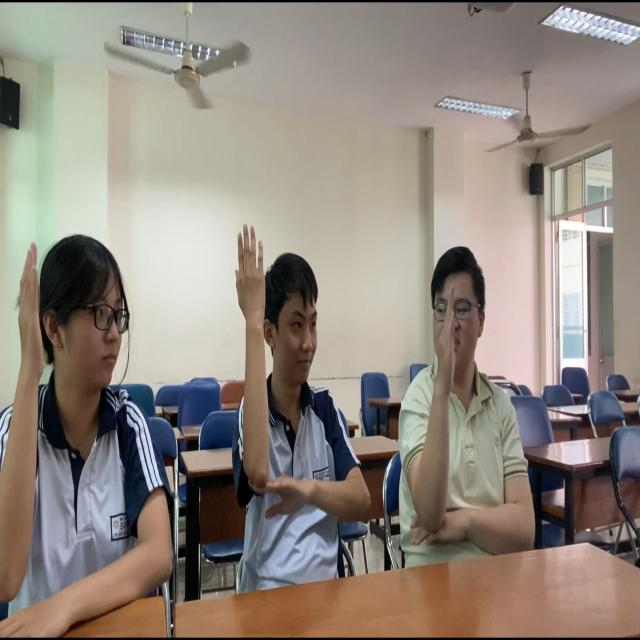raise_hand: (222, 188, 374, 560), (1, 210, 145, 591), (406, 233, 518, 534)
